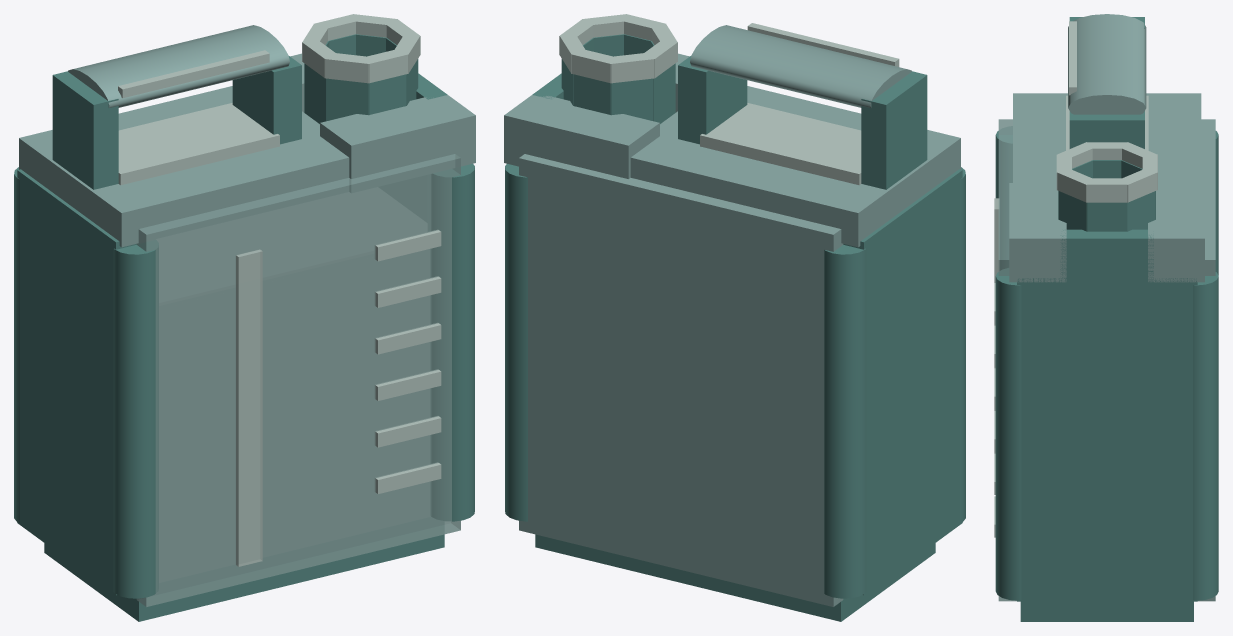
File: CMU3DReagentJugFill4StudyCloud.glb
3 renders of one model, left to right at view 1: azimuth 30°, elevation 25°; view 2: azimuth 150°, elevation 25°; view 3: azimuth 270°, elevation 25°, orthographic. The views are drawn at different scales.
Visible parts, largest first — view 1: front translucent jug wall, left molded jug wall, rounded canister corner (×3), jug shoulder left deck, jug shoulder front around spout, front vertical molding, handle inner lower ledge, handle rounded bridge, handle left upright, closed molded jug floor, handle right upright, handle top glint (+14 smaller); view 2: back molded jug wall, left molded jug wall, rounded canister corner (×3), jug shoulder left deck, handle rounded bridge, jug shoulder rear around spout, handle inner lower ledge, handle left upright, closed molded jug floor, handle right upright, hollow pouring neck 04, handle top glint (+7 smaller); view 3: right molded jug wall, rounded canister corner (×4), jug shoulder left deck, handle rounded bridge, jug shoulder front around spout, jug shoulder rear around spout, jug shoulder right around spout, closed molded jug floor, handle right upright, front translucent jug wall, back molded jug wall, hollow pouring neck 01 (+12 smaller).
Boxes of the visible parts, x1=… form: front translucent jug wall: x1=136, y1=154, x2=460, y2=606; left molded jug wall: x1=17, y1=169, x2=136, y2=595; rounded canister corner (×3): x1=14, y1=164, x2=474, y2=598; jug shoulder left deck: x1=19, y1=86, x2=349, y2=247; jug shoulder front around spout: x1=320, y1=95, x2=475, y2=192; front vertical molding: x1=236, y1=249, x2=262, y2=566; handle inner lower ledge: x1=118, y1=103, x2=279, y2=185; handle rounded bridge: x1=68, y1=25, x2=289, y2=107; handle left upright: x1=52, y1=71, x2=118, y2=189; closed molded jug floor: x1=44, y1=534, x2=444, y2=621; handle right upright: x1=232, y1=56, x2=301, y2=144; handle top glint: x1=118, y1=50, x2=269, y2=98; back molded jug wall: x1=519, y1=154, x2=843, y2=606; left molded jug wall: x1=843, y1=169, x2=962, y2=595; rounded canister corner (×3): x1=505, y1=164, x2=965, y2=598; jug shoulder left deck: x1=630, y1=86, x2=960, y2=247; handle rounded bridge: x1=690, y1=25, x2=911, y2=107; jug shoulder rear around spout: x1=504, y1=95, x2=659, y2=178; handle inner lower ledge: x1=700, y1=103, x2=861, y2=185; handle left upright: x1=861, y1=71, x2=927, y2=189; closed molded jug floor: x1=535, y1=534, x2=935, y2=621; handle right upright: x1=678, y1=56, x2=747, y2=144; hollow pouring neck 04: x1=610, y1=78, x2=653, y2=120; handle top glint: x1=747, y1=23, x2=899, y2=66; right molded jug wall: x1=1017, y1=278, x2=1197, y2=601; rounded canister corner (×4): x1=995, y1=131, x2=1218, y2=600; jug shoulder left deck: x1=1013, y1=93, x2=1201, y2=182; handle rounded bridge: x1=1068, y1=14, x2=1146, y2=114; jug shoulder front around spout: x1=1009, y1=183, x2=1066, y2=282; jug shoulder rear around spout: x1=1148, y1=183, x2=1204, y2=282; jug shoulder right around spout: x1=1060, y1=229, x2=1153, y2=282; closed molded jug floor: x1=1020, y1=601, x2=1193, y2=621; handle right upright: x1=1069, y1=111, x2=1144, y2=148; front translucent jug wall: x1=998, y1=119, x2=1016, y2=601; back molded jug wall: x1=1198, y1=119, x2=1215, y2=601; hollow pouring neck 01: x1=1086, y1=202, x2=1127, y2=231.
Bounding box in the file's own units: 0.502 × 0.688 × 0.298.
